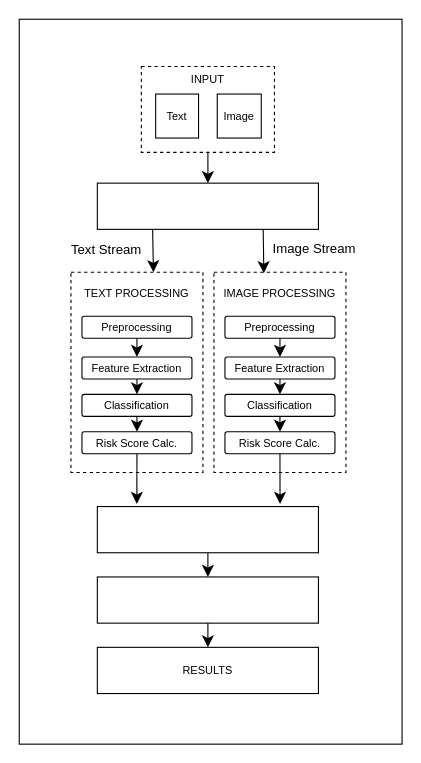
The diagram is 421 pixels wide and 763 high, and some of its shapes have lost their labels. The shapes that lost their labels are listed below. From the top down, each one's centre as x and y in pixels, then its label:
At (x=207, y=205): "CONTENT SEGREGATION".
At (x=207, y=529): "RISK SCORE FUSION".
At (x=207, y=599): "THREAT LEVEL CLASSIFICATION".
